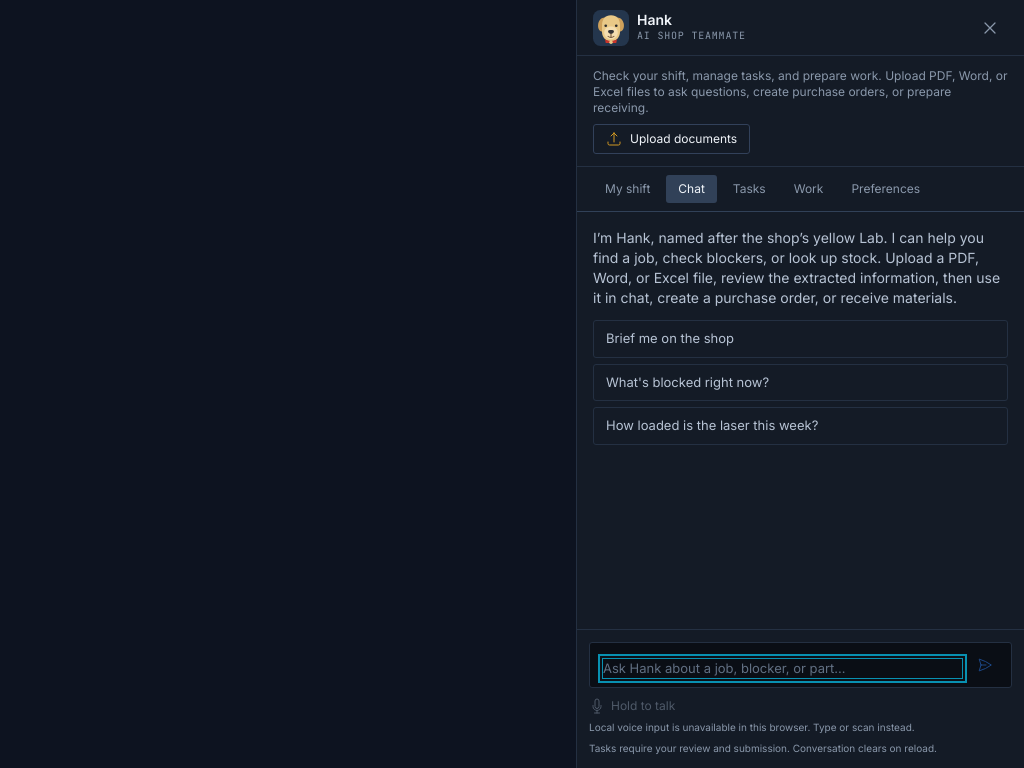
Test: CopilotPanel › sends a message and renders the streamed answer with deep links
Step 1. Type "where is WO-1001?" into the text box labelled "Ask Hank" → (782, 668), box left=602, top=658, right=963, bottom=679
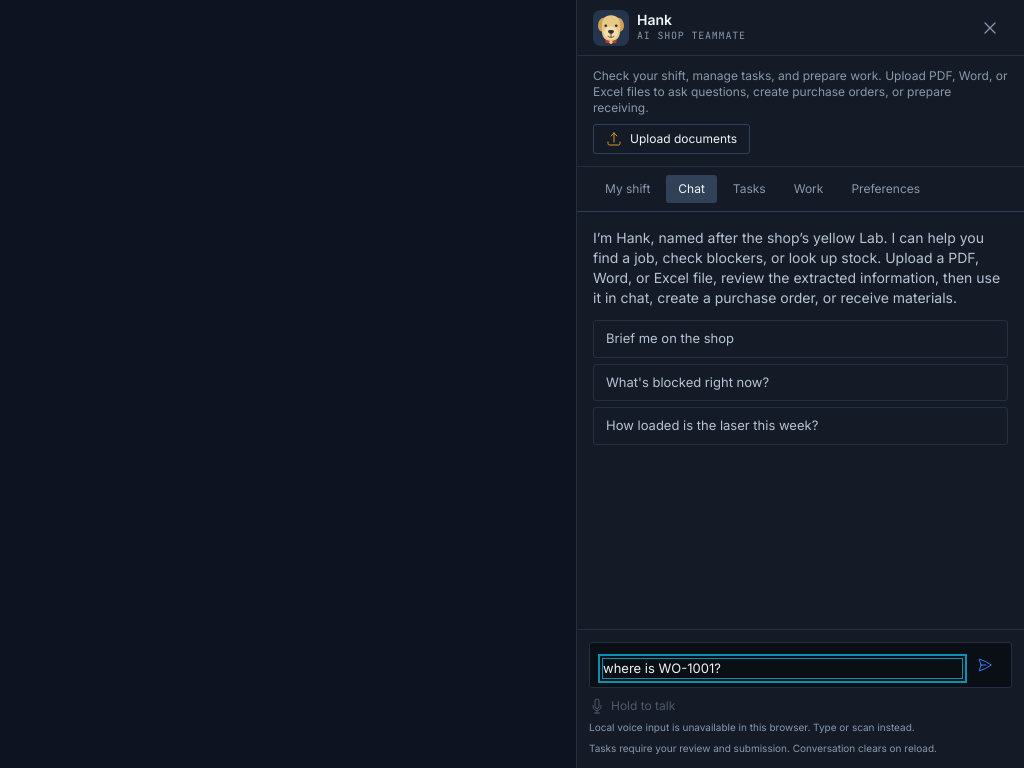
Step 2. Click the button named "Send message" → (985, 665), box left=971, top=651, right=999, bottom=679
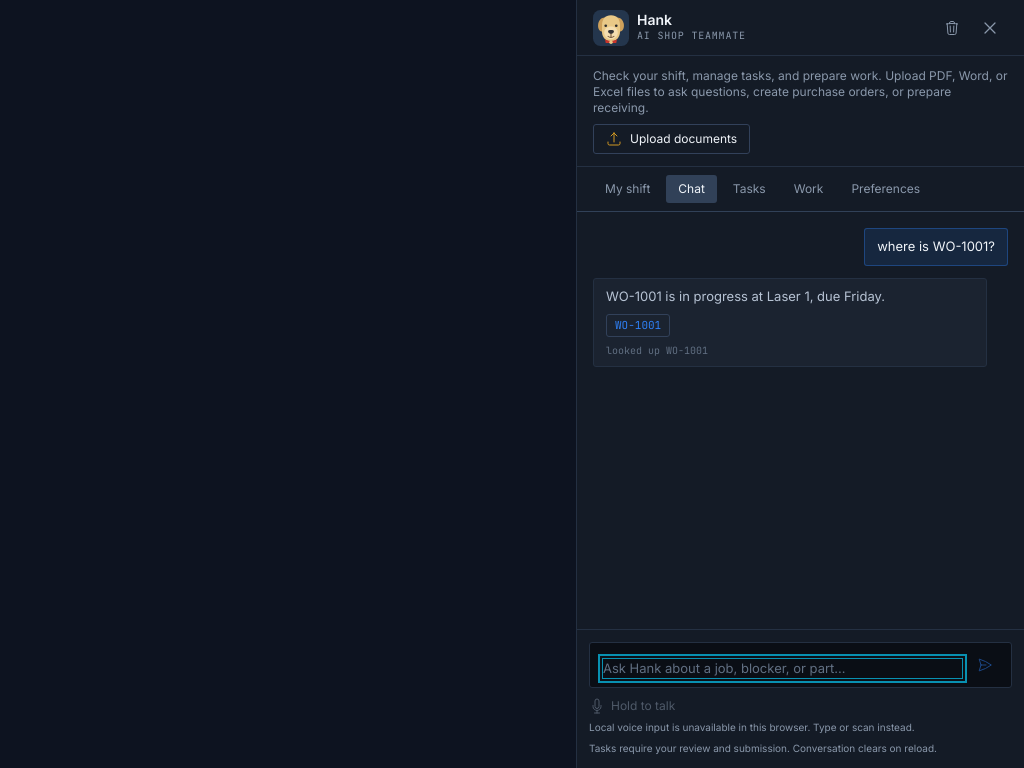
Now the element with test id "copilot-message-user" reads "where is WO-1001?", box left=877, top=238, right=995, bottom=254
Now the text "WO-1001 is in progress at Laser 1, due Friday." is shown, box left=606, top=288, right=885, bottom=304
Now the text "looked up WO-1001" is shown, box left=606, top=344, right=708, bottom=356
